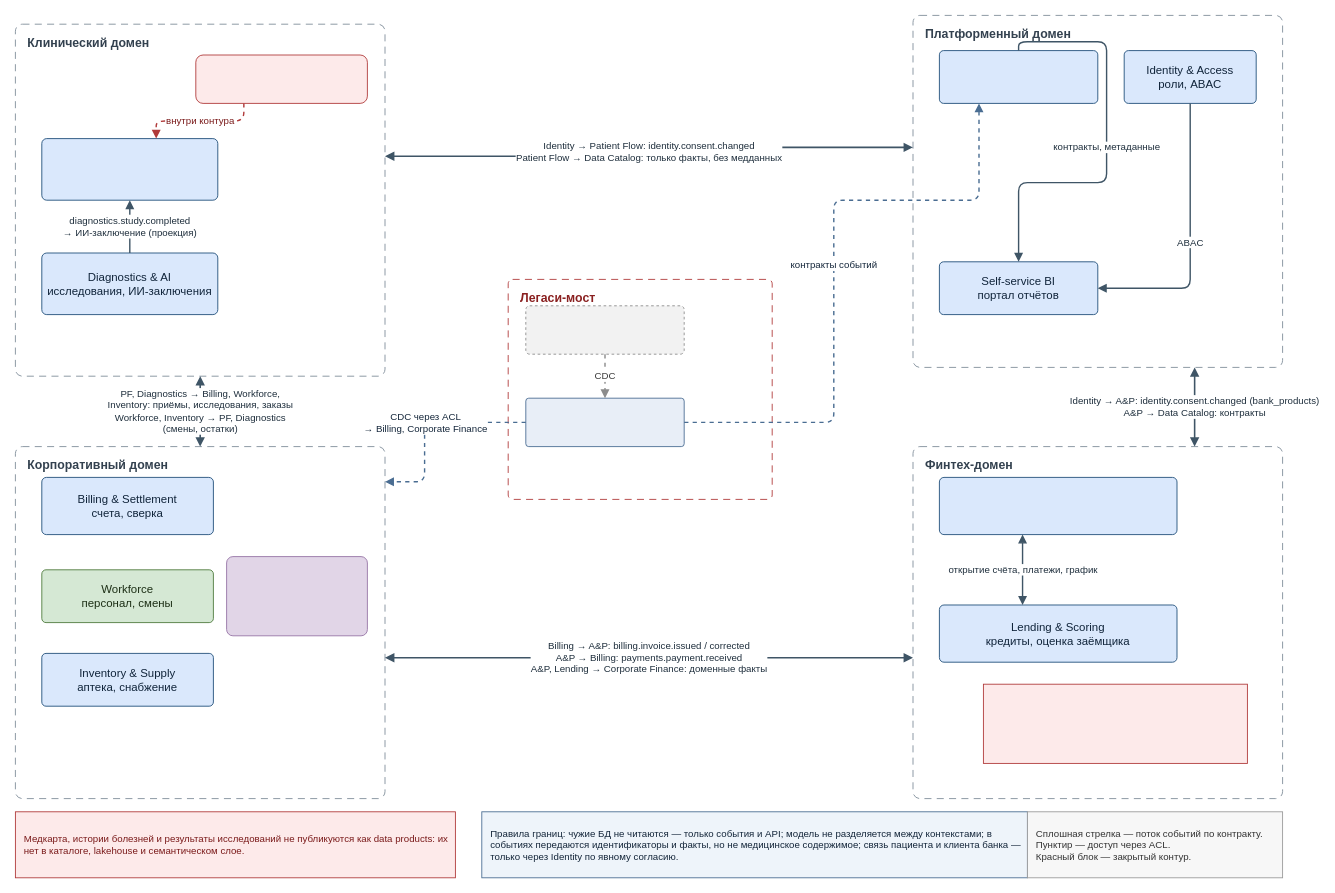
This 1335x893 diagram has some shape labels left out. The shapes that lost their labels are listed below. From the top down, each one's centre as x and y in pixels, then its label:
At point (281, 78): "Medical Record медкарта".
At point (1018, 76): "Data Catalog контракты, data products".
At point (129, 169): "Patient Flow пациенты, записи, приёмы".
At point (604, 329): "DWH / Camel историческая логика".
At point (604, 422): "Anti-Corruption Layer".
At point (1058, 506): "Accounts & Payments счета, платежи".
At point (296, 596): "Corporate Finance подписчик фактов всех доменов уведомляет Billing, A&P, Lending".
At point (1115, 723): "Банковская тайна: отдельный контур облака, отдельные ключи KMS, свой ABAC-домен".
